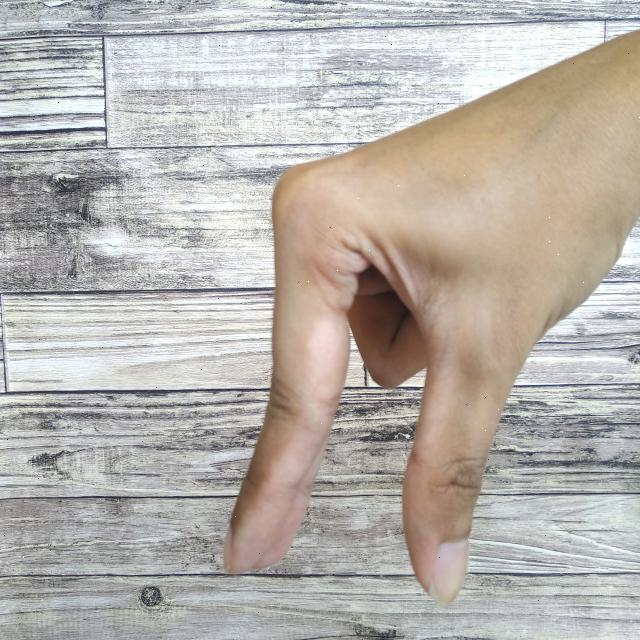Q: (203, 22, 640, 610)
